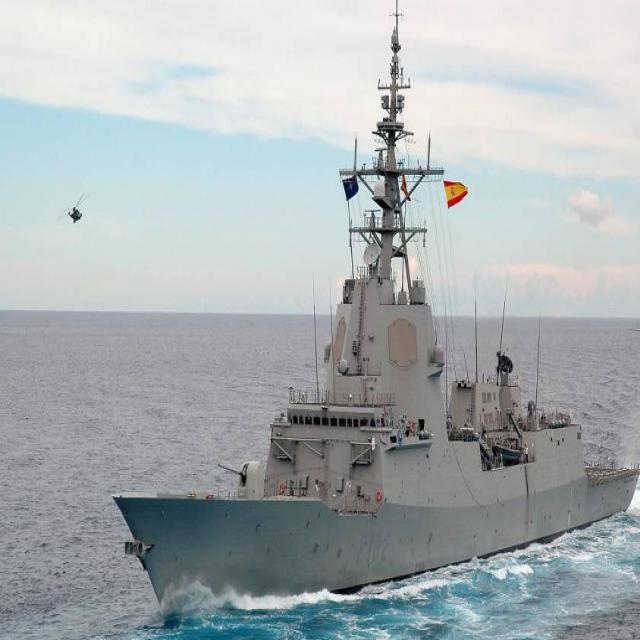Fragata: (1, 1, 422, 637)
